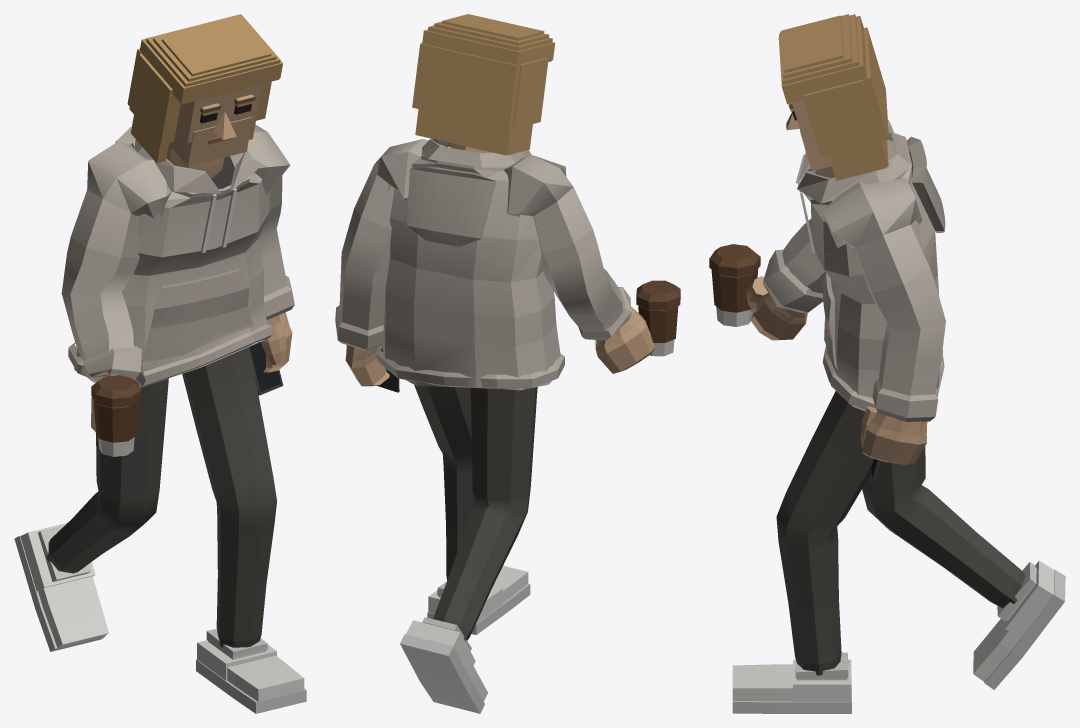
Rendered from student-in-a-hoodie-7c8223__walk1.glb.
The picture shows the model from 3 angles, left to right: view 1: azimuth 30°, elevation 25°; view 2: azimuth 150°, elevation 25°; view 3: azimuth 270°, elevation 25°; orthographic projection. The views are drawn at different scales.
Visible parts, largest first — view 1: student-in-a-hoodie-7c8223__walk1; view 2: student-in-a-hoodie-7c8223__walk1; view 3: student-in-a-hoodie-7c8223__walk1.
Boxes of the visible parts, x1,y1,x2,y2 form: student-in-a-hoodie-7c8223__walk1: (14, 14, 306, 713); student-in-a-hoodie-7c8223__walk1: (335, 14, 680, 713); student-in-a-hoodie-7c8223__walk1: (709, 14, 1065, 713).
Size of the model in its own units: 0.778 by 1.73 by 0.8379.
